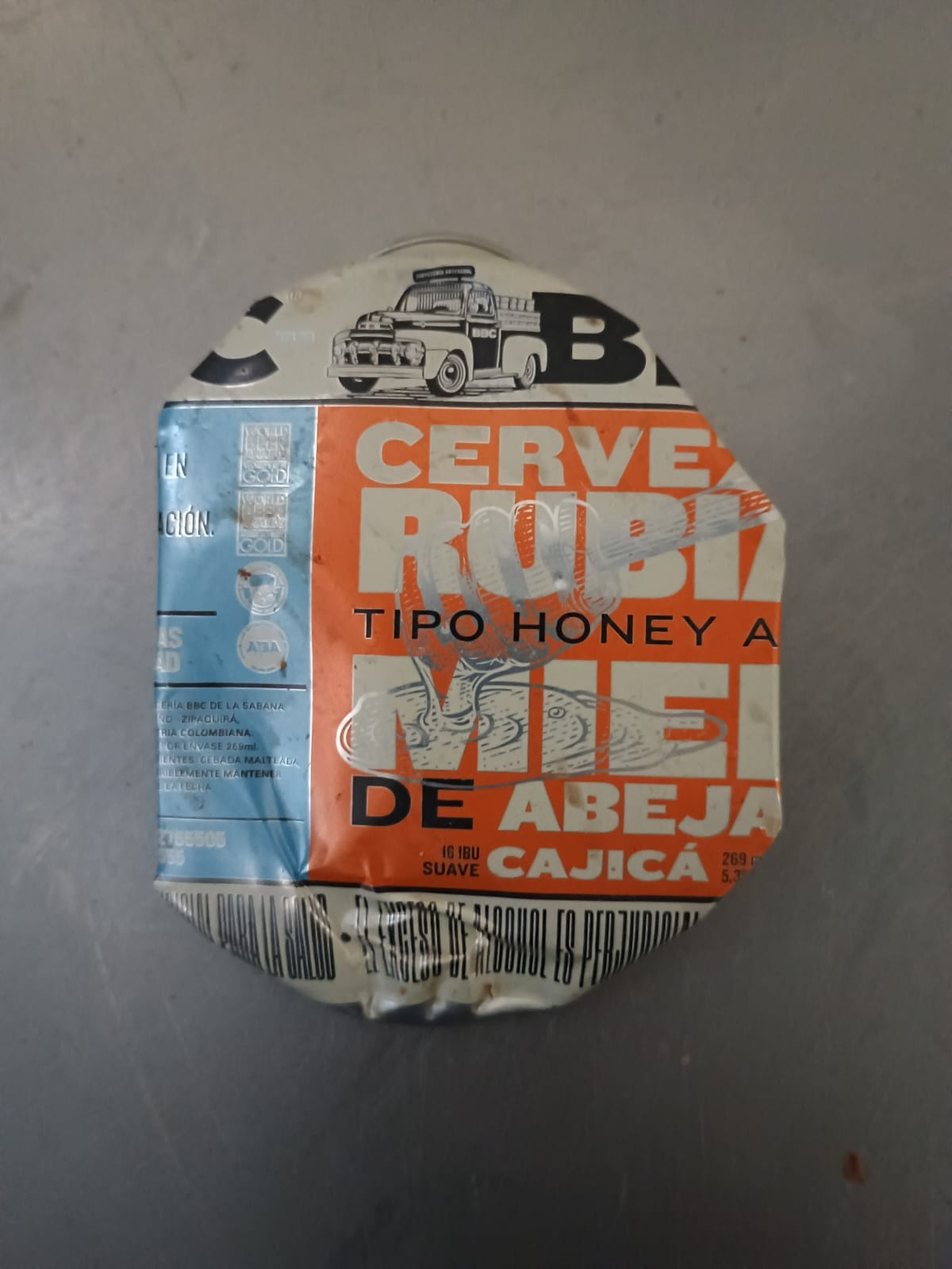Metal: (156, 239, 786, 1023)
